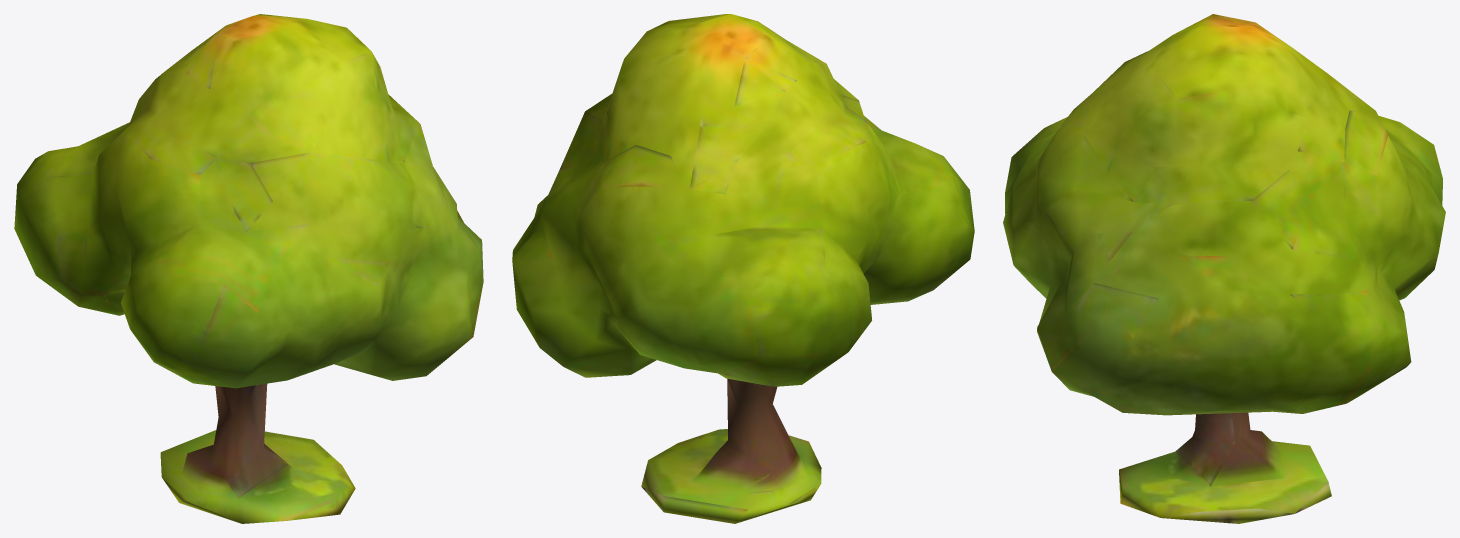
Rendered from tree3.fbx.
The picture shows the model from 3 angles, left to right: view 1: azimuth 30°, elevation 25°; view 2: azimuth 150°, elevation 25°; view 3: azimuth 270°, elevation 25°; orthographic projection. The views are drawn at different scales.
Visible parts, largest first — view 1: Mesh_0.003; view 2: Mesh_0.003; view 3: Mesh_0.003.
Boxes of the visible parts, box(x1,y1,x2,y2) form: Mesh_0.003: box(14, 14, 483, 523); Mesh_0.003: box(512, 14, 974, 523); Mesh_0.003: box(1003, 14, 1445, 523).
Size of the model in its own units: 2376 by 2928 by 2506.
